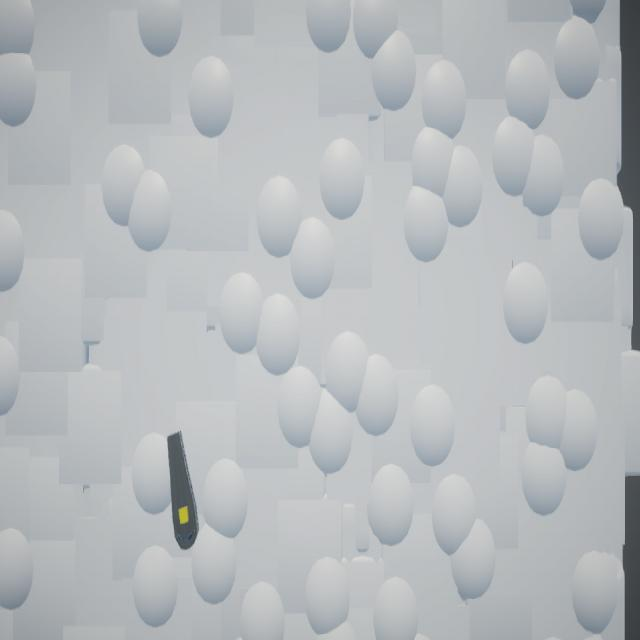handle_knife: (168, 431, 200, 552)
